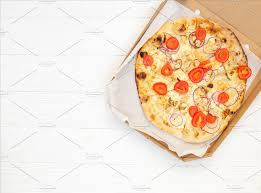pizza: (149, 22, 247, 136)
